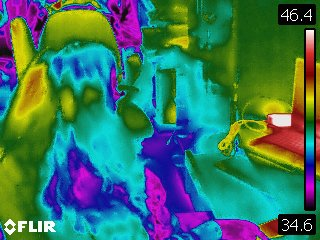human: (3, 8, 237, 238)
